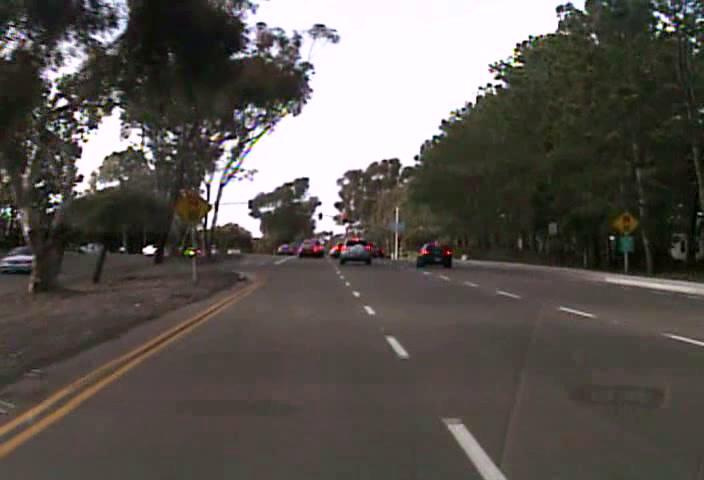signalAhead: (613, 209, 639, 237)
